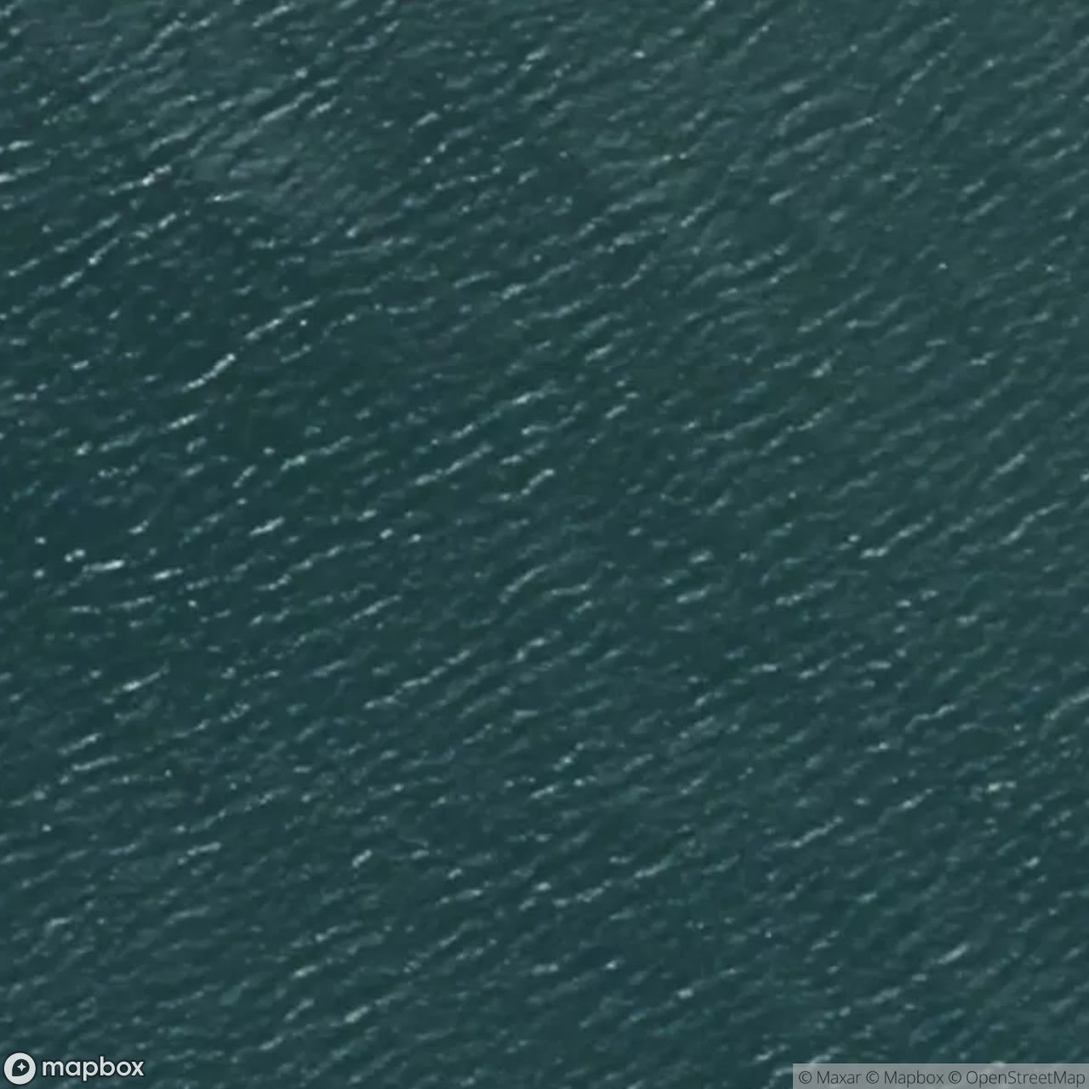Sea: (0, 0, 1084, 1081)
